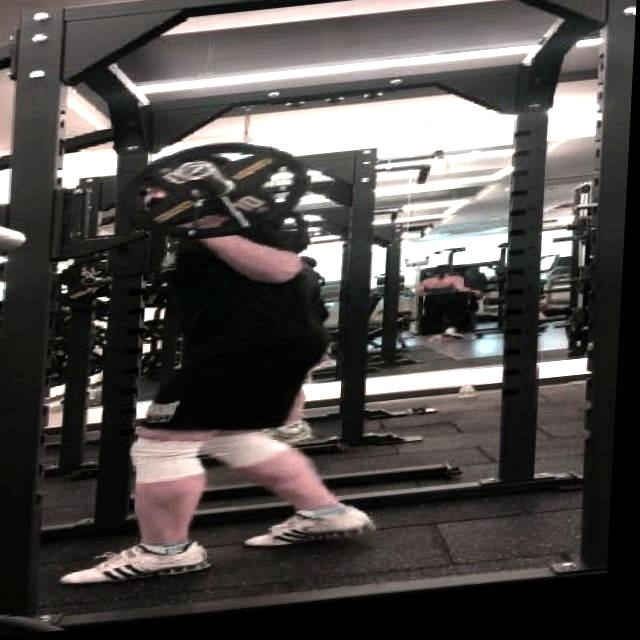barbell: (116, 136, 317, 257)
